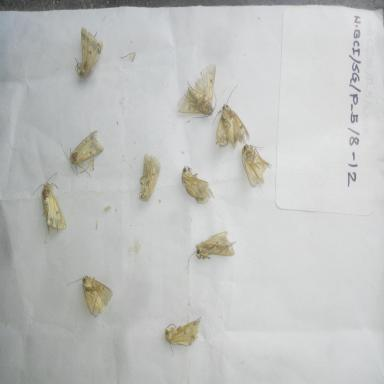abw: (211, 77, 256, 150), (28, 168, 69, 235), (174, 57, 218, 119), (57, 126, 106, 181), (186, 219, 238, 270), (63, 270, 115, 321), (159, 311, 206, 359), (177, 158, 218, 208), (71, 24, 103, 82), (239, 142, 271, 190), (138, 152, 166, 204)
